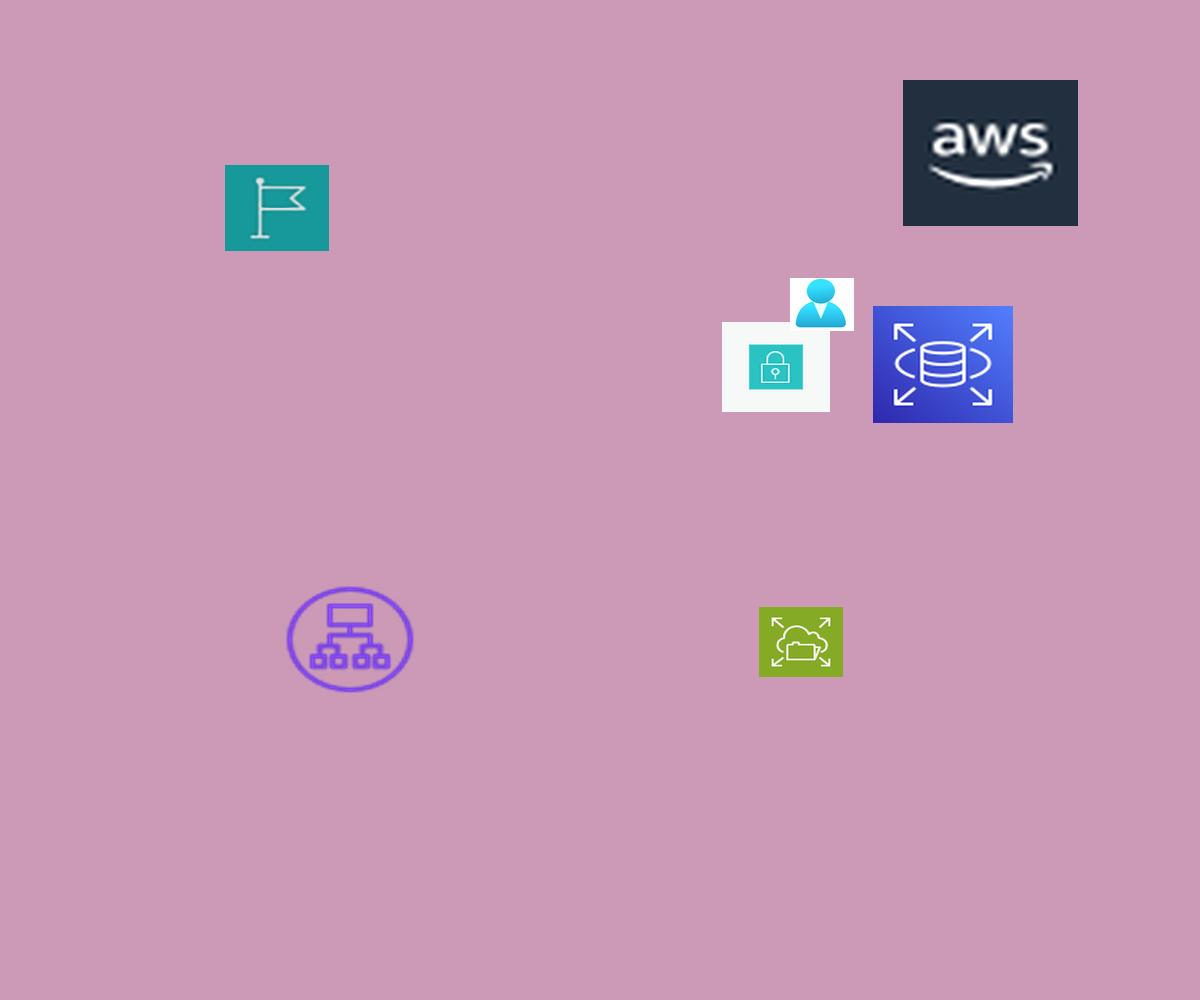AWS-Cloud-logo: (903, 80, 1078, 226)
AWS-EFS: (759, 607, 843, 677)
AWS-Private-subnet: (722, 322, 830, 412)
AWS-RDS: (873, 306, 1013, 423)
AWS-Region: (225, 165, 329, 251)
AWS-Res_Elastic-Load-Balancing_Application-Load-Balancer: (281, 582, 419, 697)
Azure_users: (790, 278, 854, 331)
